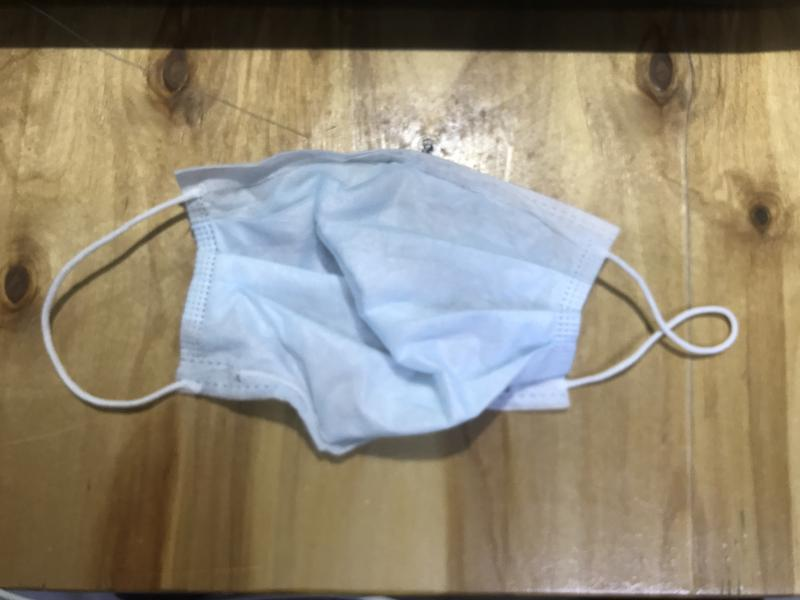medical_mask: (39, 150, 740, 455)
